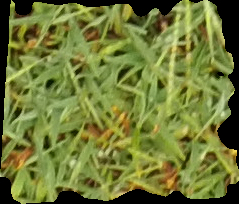grass: (1, 1, 238, 202)
